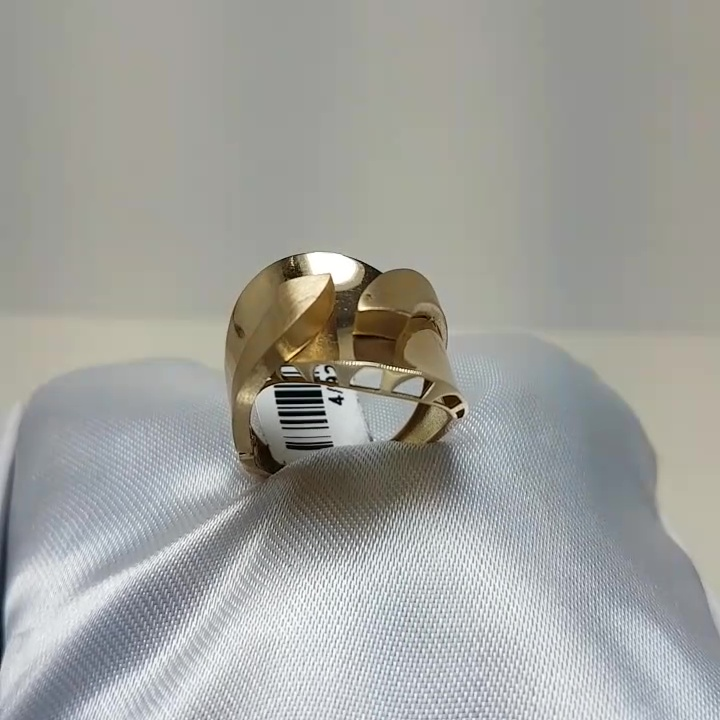Ring 4: (171, 215, 474, 493)
